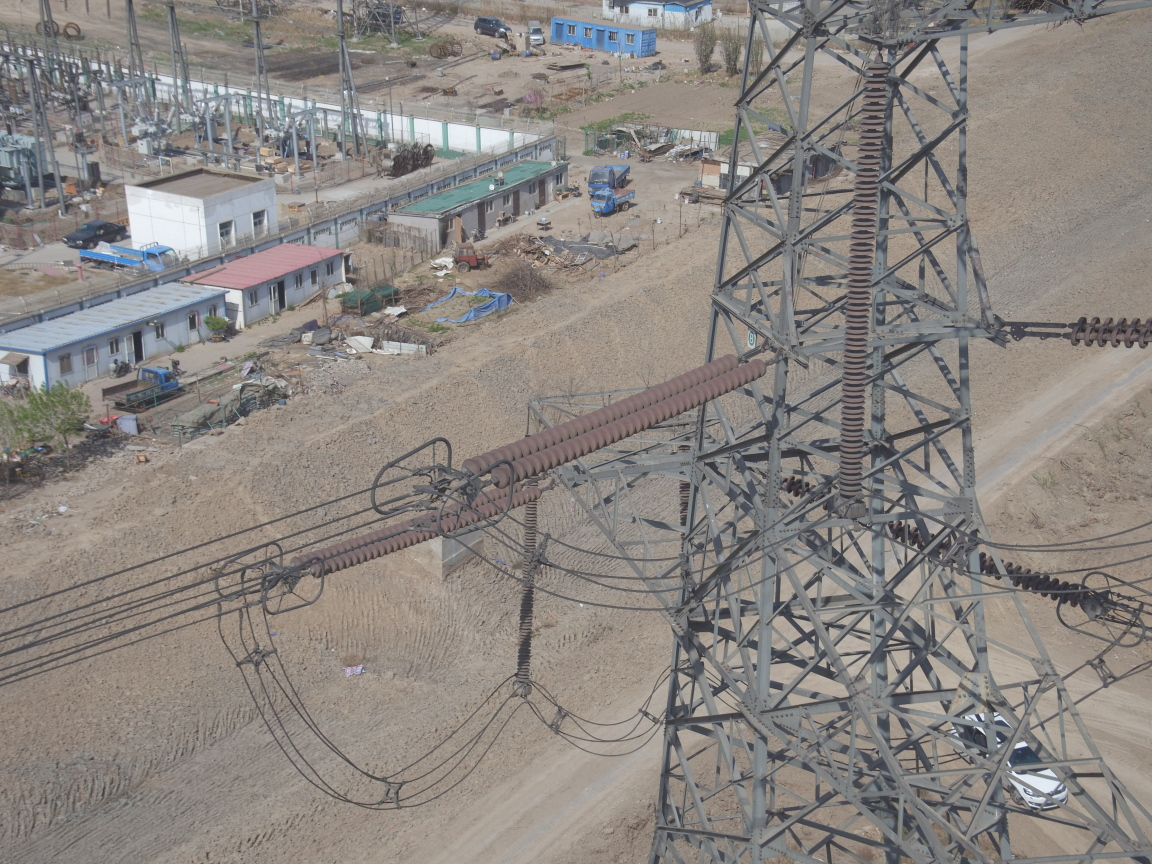insulator: (447, 347, 800, 489), (281, 477, 554, 582)
